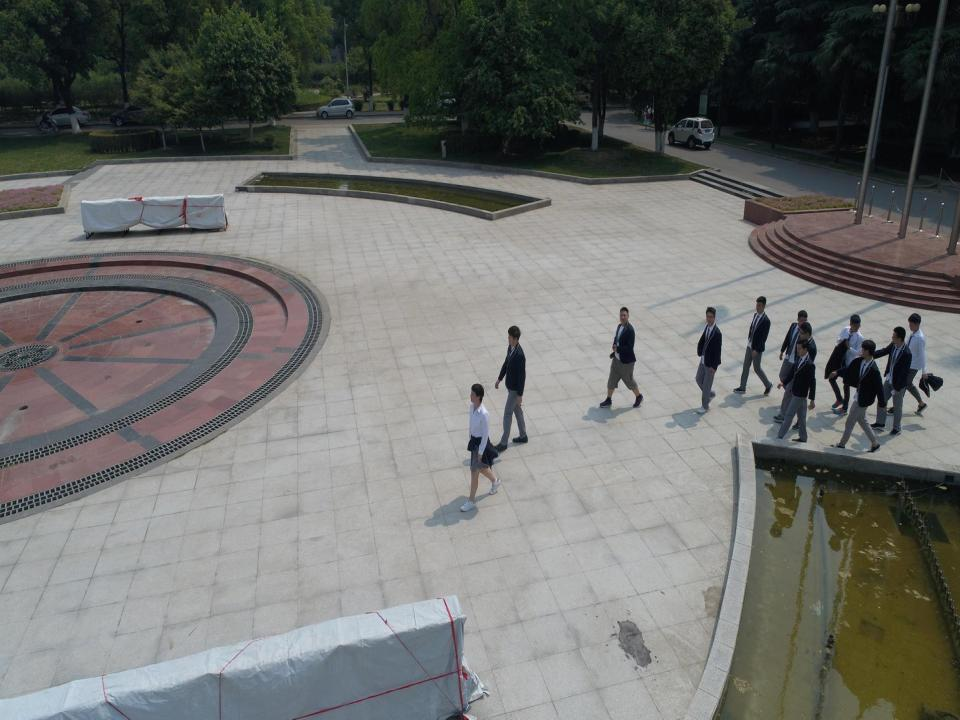car: (666, 114, 721, 151), (106, 99, 169, 131), (33, 102, 88, 130), (317, 92, 357, 122)
